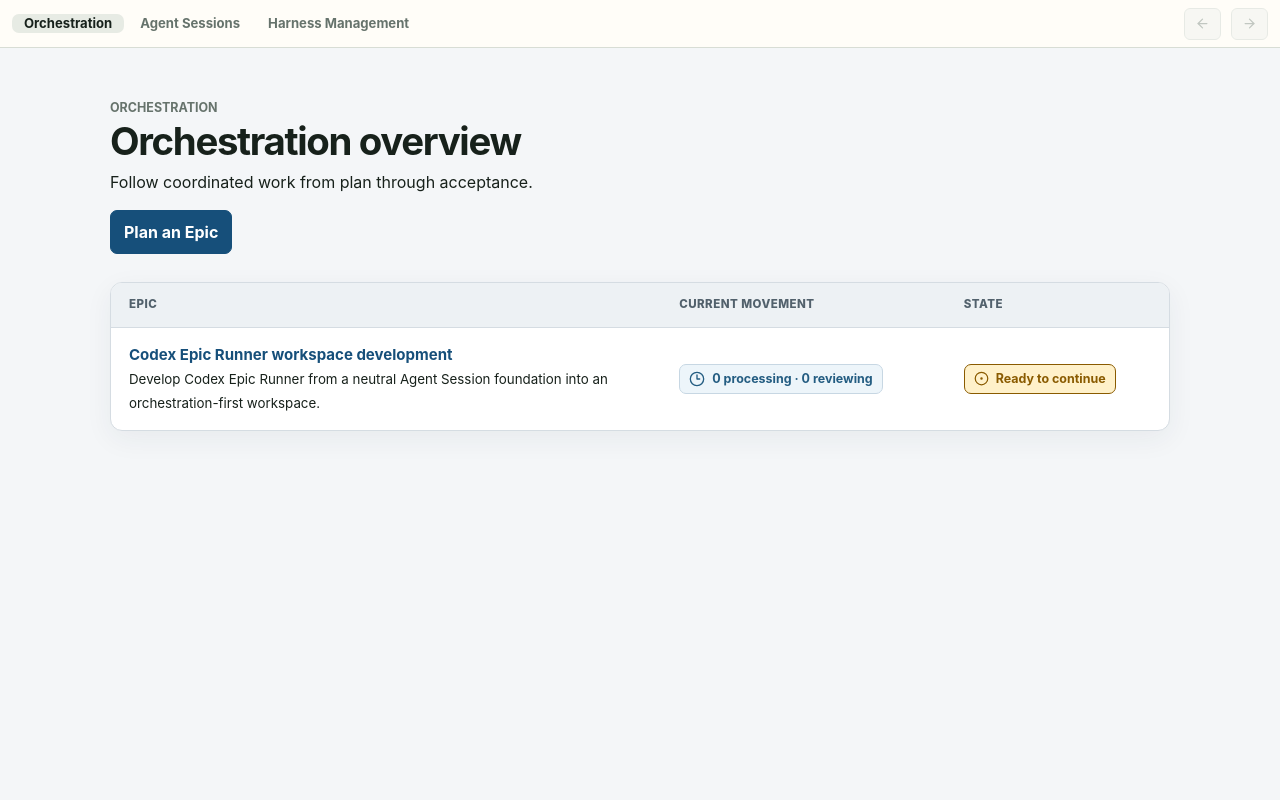
Test: App application surfaces › opens one product-owned Session binding in standalone view and returns to its typed product view
Click the button with aria-label "Open Codex Epic Runner". click: [386, 355]
box: [129, 344, 643, 366]
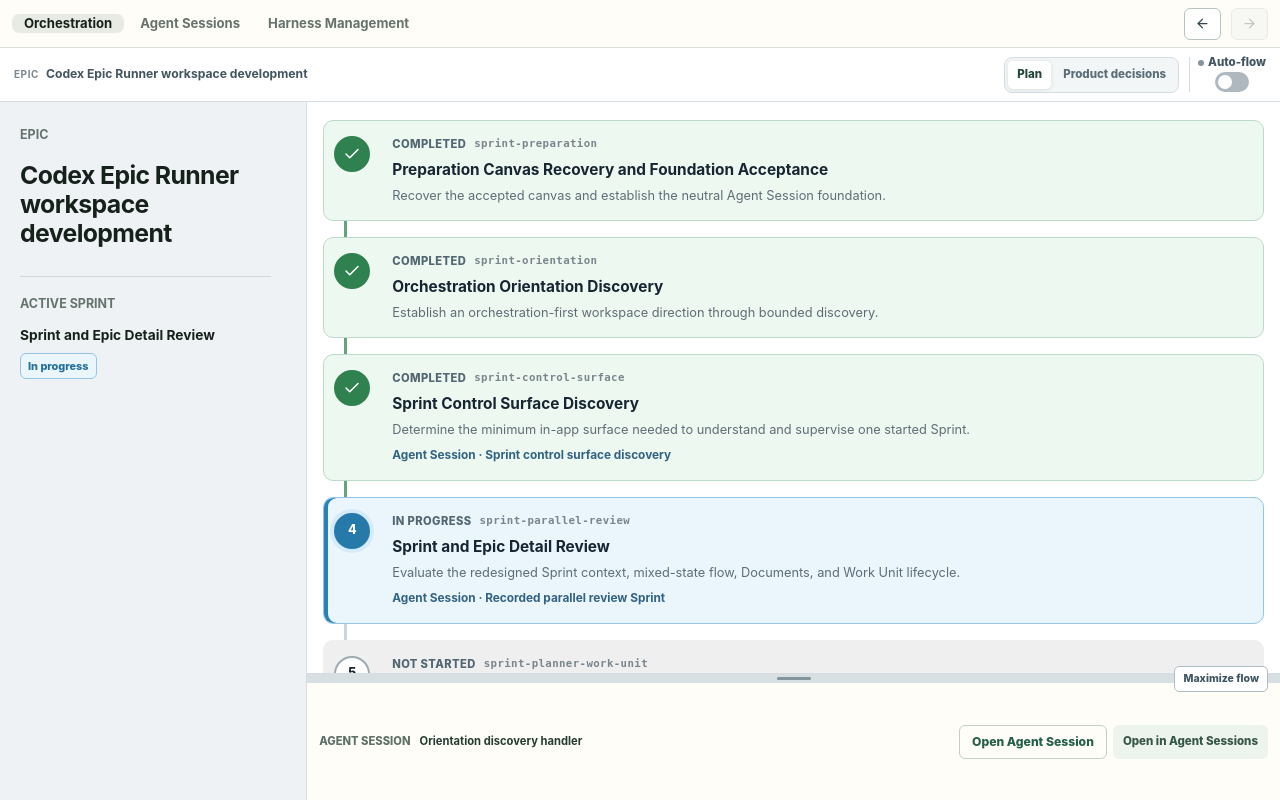
Click the button "Open in Agent Sessions". click: [1190, 742]
box: [1113, 725, 1268, 759]
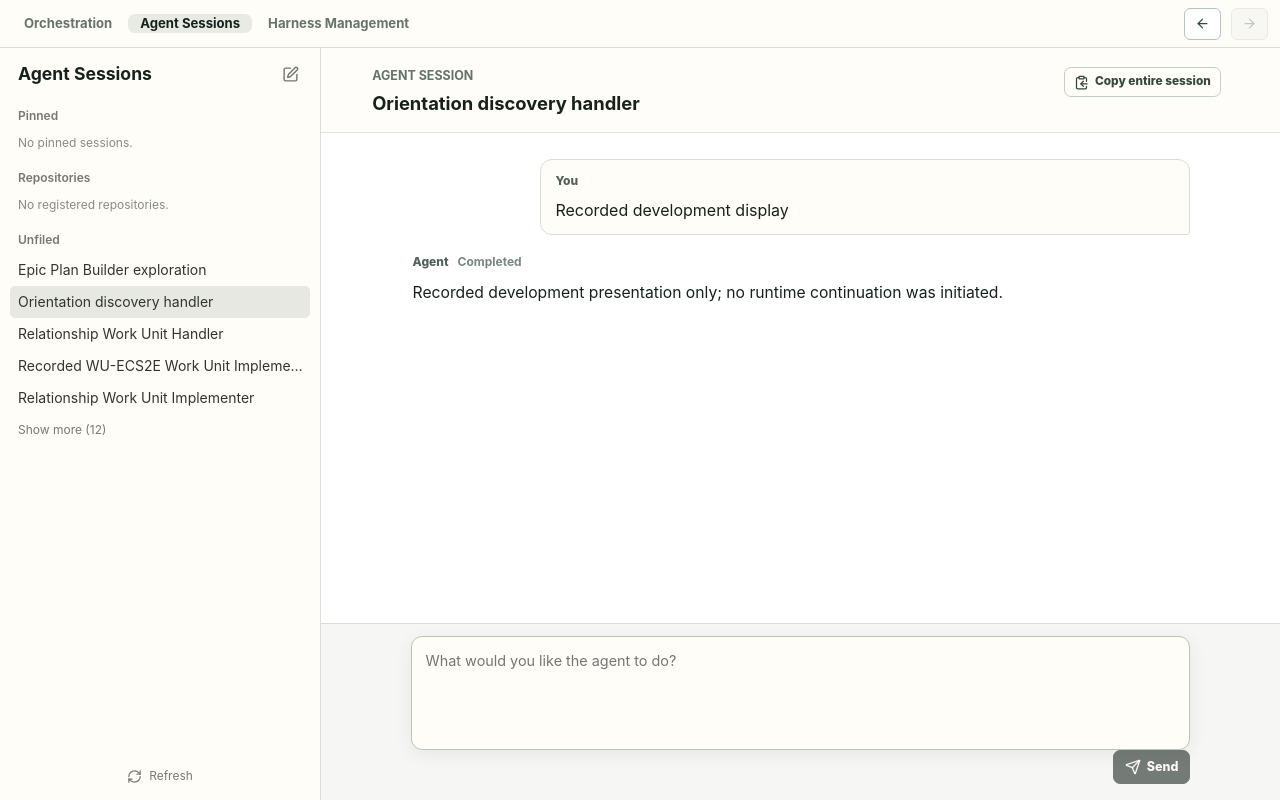
Expected: the heading "Orientation discovery handler" is shown, [372, 90, 640, 117]
Expected: the text "Epic Detail" is gone
Click the button named "Back". click: [1202, 24]
box: [1184, 8, 1221, 40]
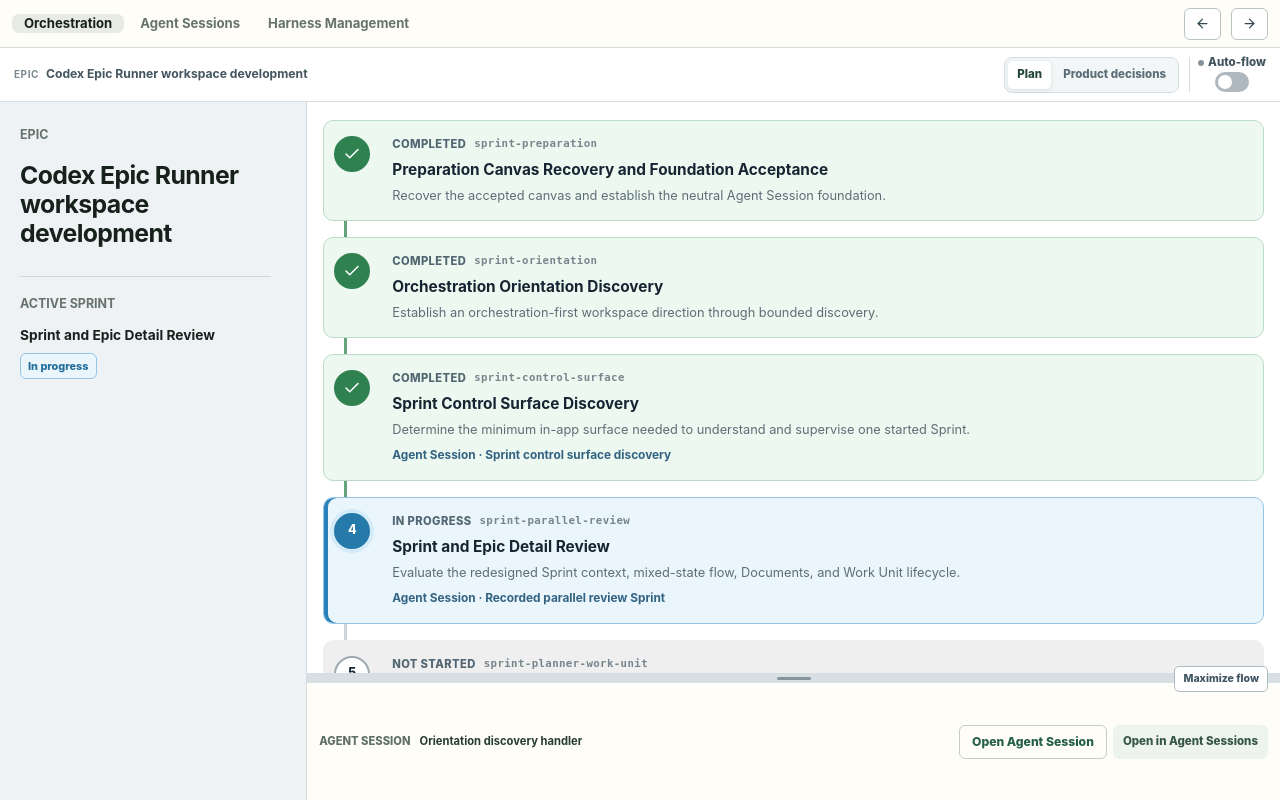
Expected: the element named "Epic detail" is shown
Click the button "Agent Sessions". click: [190, 24]
box: [128, 14, 252, 33]
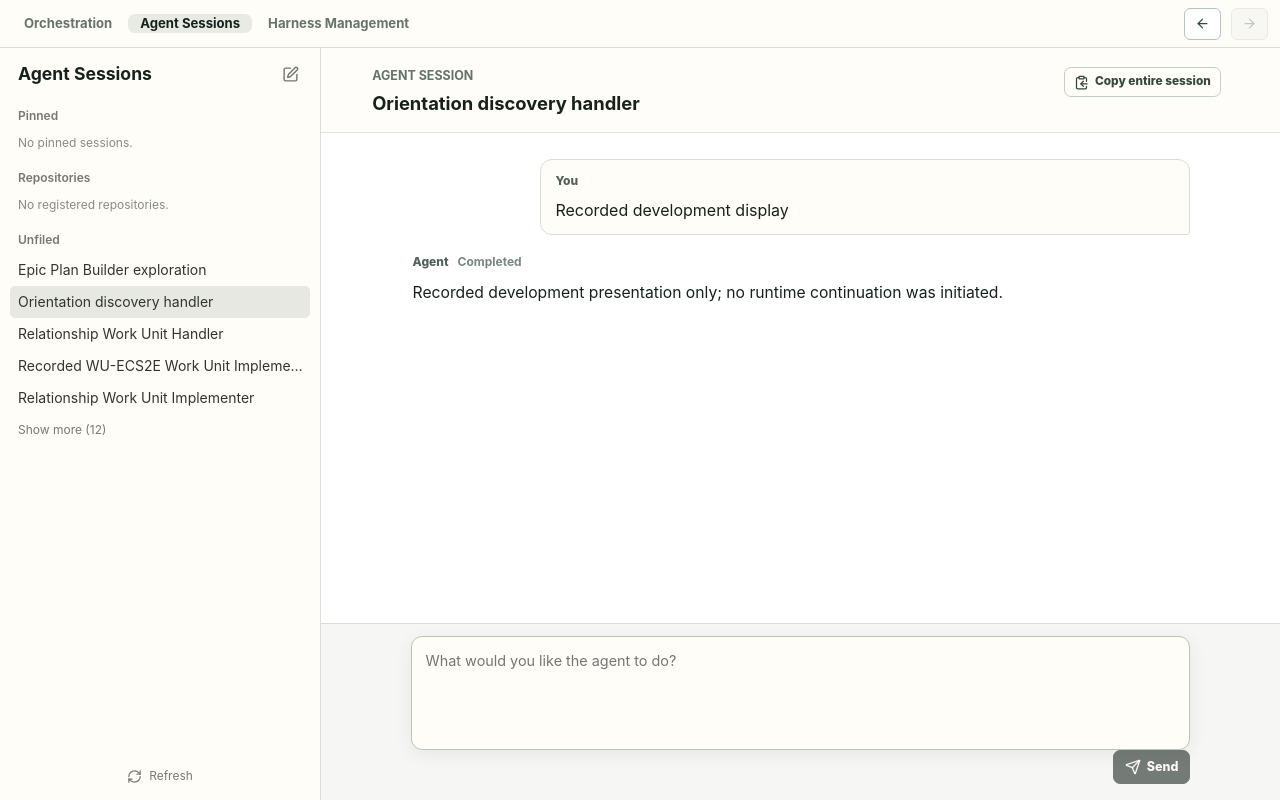
Expected: the heading "Orientation discovery handler" is shown, [372, 90, 640, 117]
